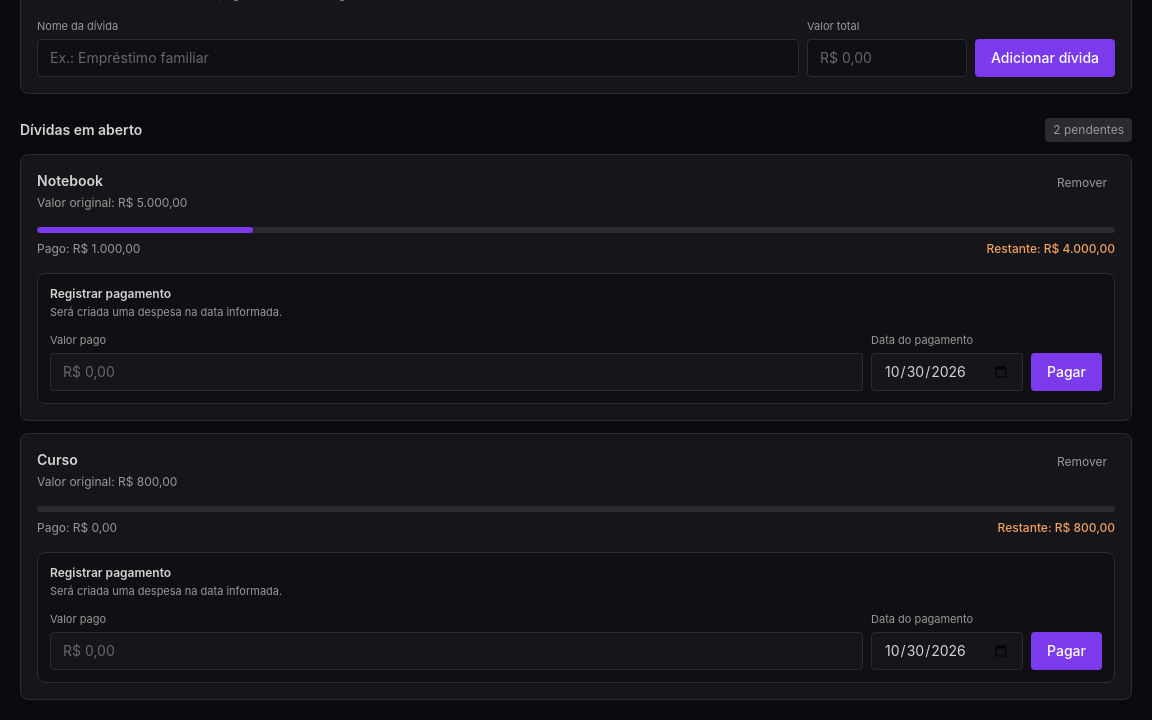
Test: DebtsTab › explica quando o pagamento ultrapassa o saldo restante
(page scrolled)
In the field named "Valor do pagamento de Curso": (457, 650) [50,632,863,670], type "900"
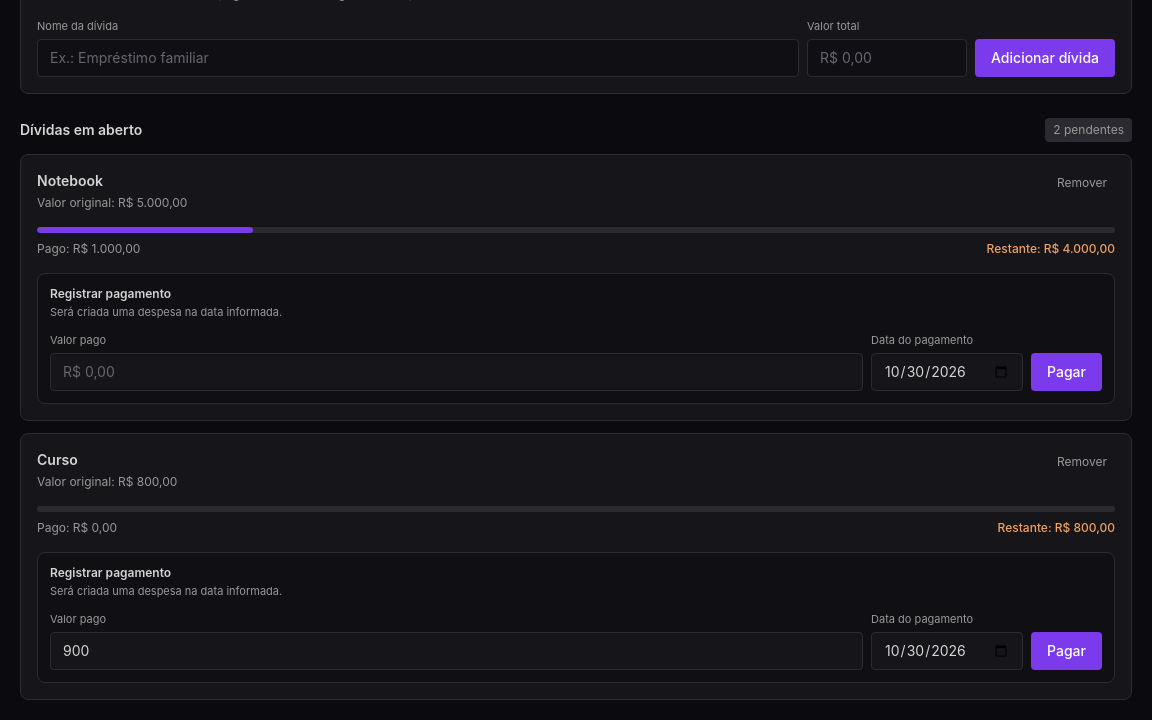
Click the button with aria-label "Registrar pagamento de Curso": (1067, 650) [1031,632,1102,670]
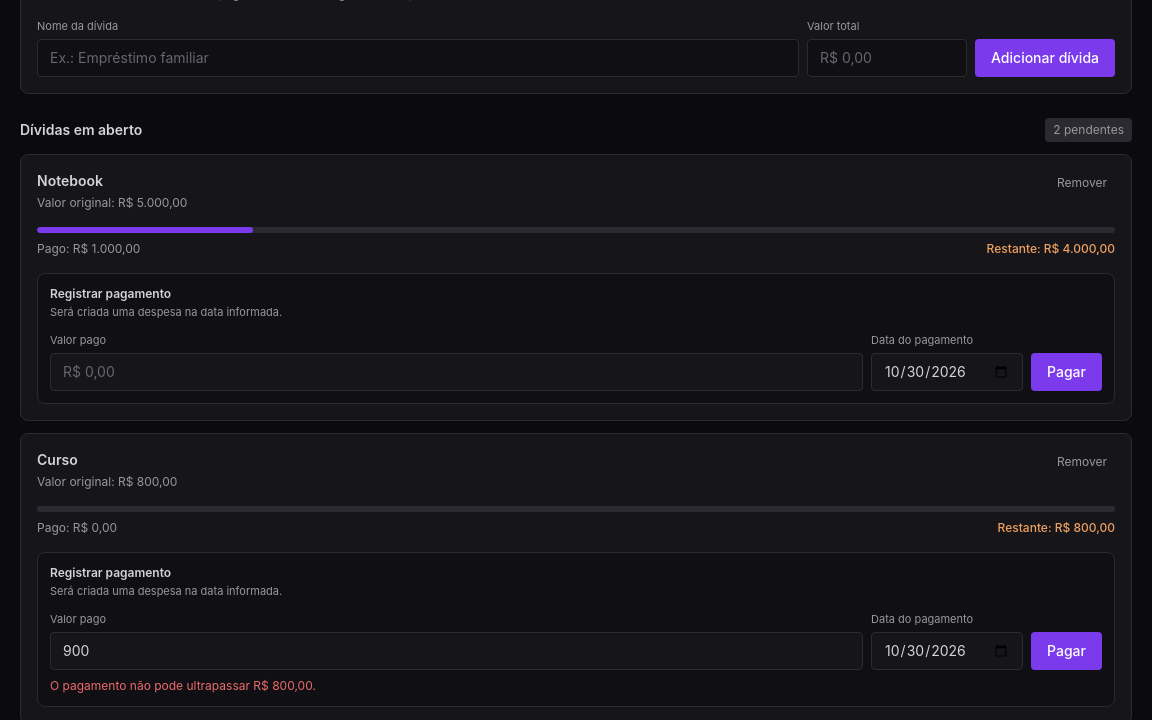
expect the message reads "O pagamento não pode ultrapassar R$ 800,00.": met, box [50,678,316,692]
